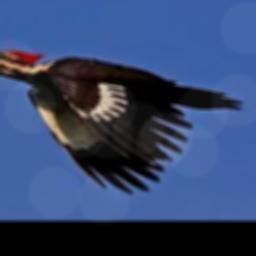Woodpecker: (0, 49, 244, 194)
